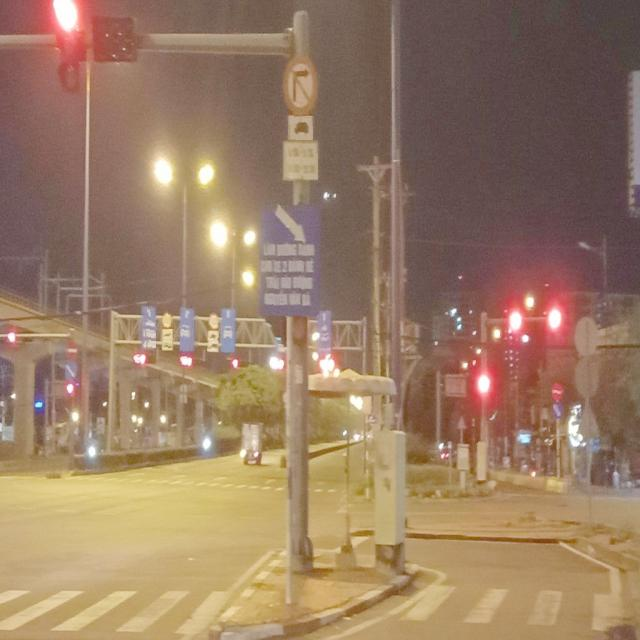cam_re_phai: (283, 54, 318, 116)
cam_xe_di_nguoc_chieu: (66, 340, 78, 360), (552, 382, 563, 402)
duong_cho_xe_o_to: (180, 306, 194, 351), (222, 308, 234, 352)
huong_phai_di_vuot_chuong_ngai_vat_phai: (66, 360, 80, 380), (553, 400, 563, 418)
khac: (261, 206, 320, 317), (284, 140, 318, 180), (288, 115, 313, 140), (317, 310, 331, 352), (142, 306, 156, 348), (162, 329, 173, 340), (207, 340, 218, 351), (208, 331, 220, 341), (162, 340, 173, 349)
toc_do_toi_da_60: (208, 313, 219, 330)
toc_do_toi_da_80: (162, 310, 173, 328)
